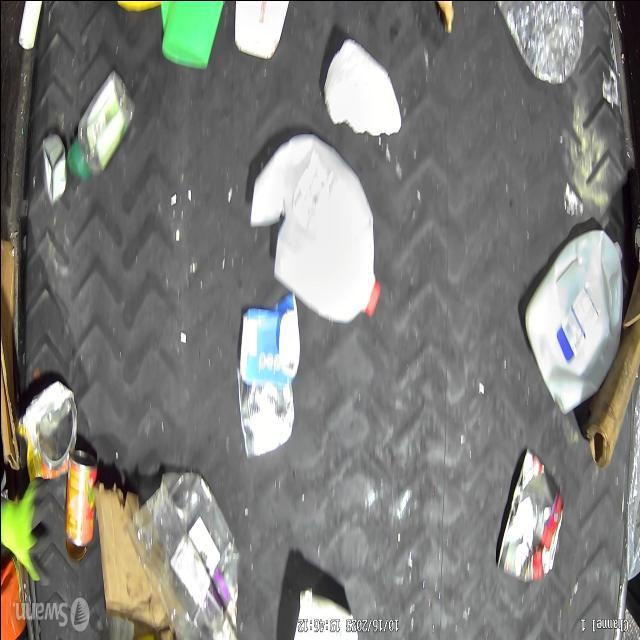can: (496, 448, 564, 582), (16, 378, 78, 484), (236, 372, 294, 456), (40, 132, 67, 204)
milk_jug: (248, 133, 380, 324), (522, 226, 624, 416)
plastic_bottle: (66, 68, 136, 178)
